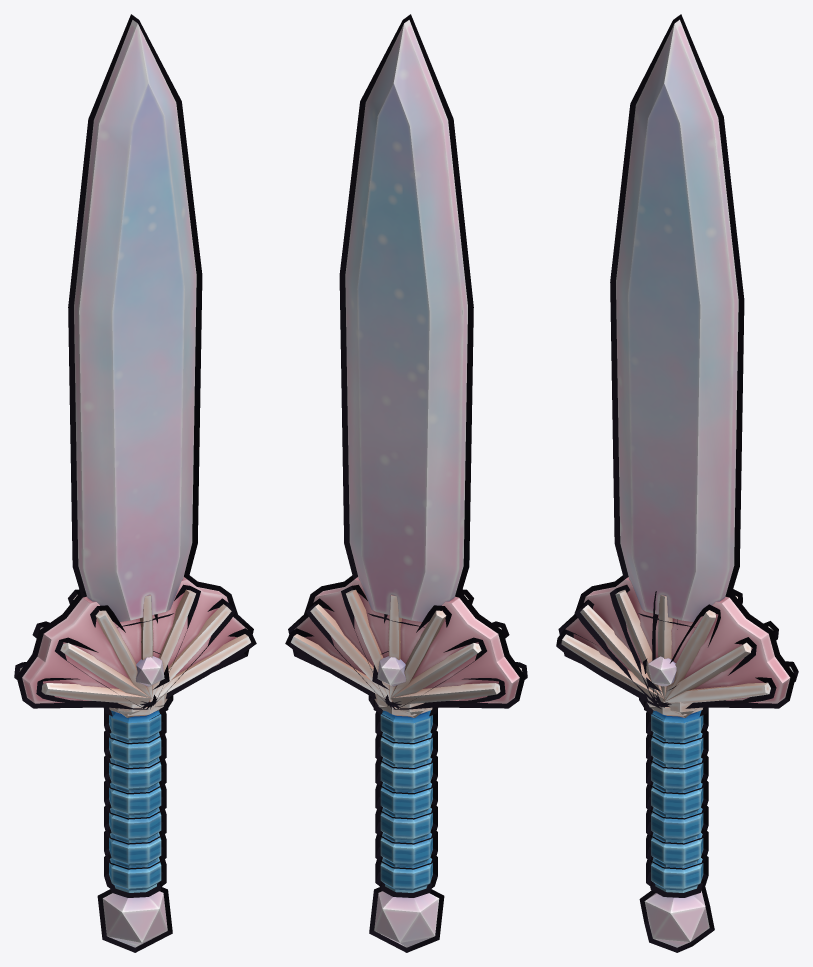
File: ShellSword.fbx
3 views of the same model, side by side, from view 1: azimuth 30°, elevation 25°; view 2: azimuth 150°, elevation 25°; view 3: azimuth 330°, elevation 25° (orthographic).
Visible parts, largest first — view 1: ShellSword, ShellSwordOutline; view 2: ShellSword, ShellSwordOutline; view 3: ShellSword, ShellSwordOutline.
Part boxes in pixels (<box>): ShellSword: <box>19,20,250,947</box>; ShellSwordOutline: <box>14,14,256,952</box>; ShellSword: <box>291,20,522,947</box>; ShellSwordOutline: <box>285,14,527,952</box>; ShellSword: <box>561,19,793,947</box>; ShellSwordOutline: <box>556,14,798,952</box>.
Size of the model in its own units: 100 by 395 by 35.65.
Materials: 2 (1 with a texture image).
